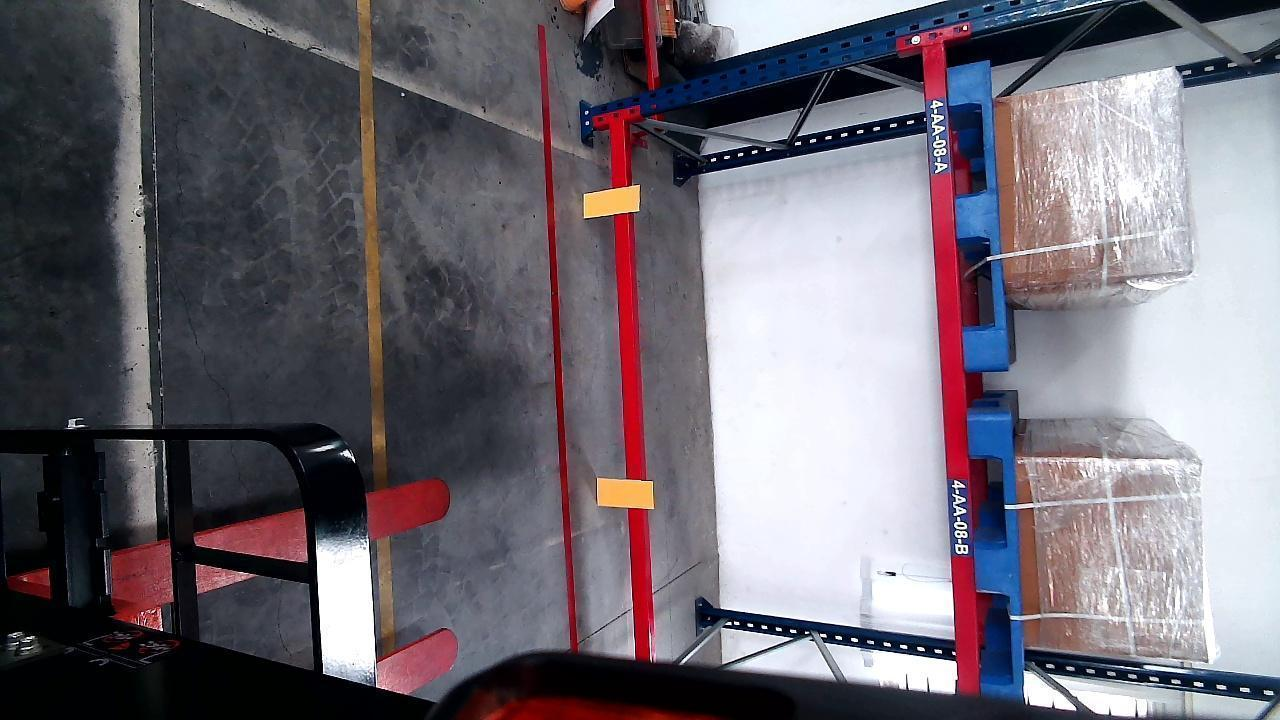red_line: (539, 19, 580, 660)
yellow_line: (359, 6, 387, 443)
